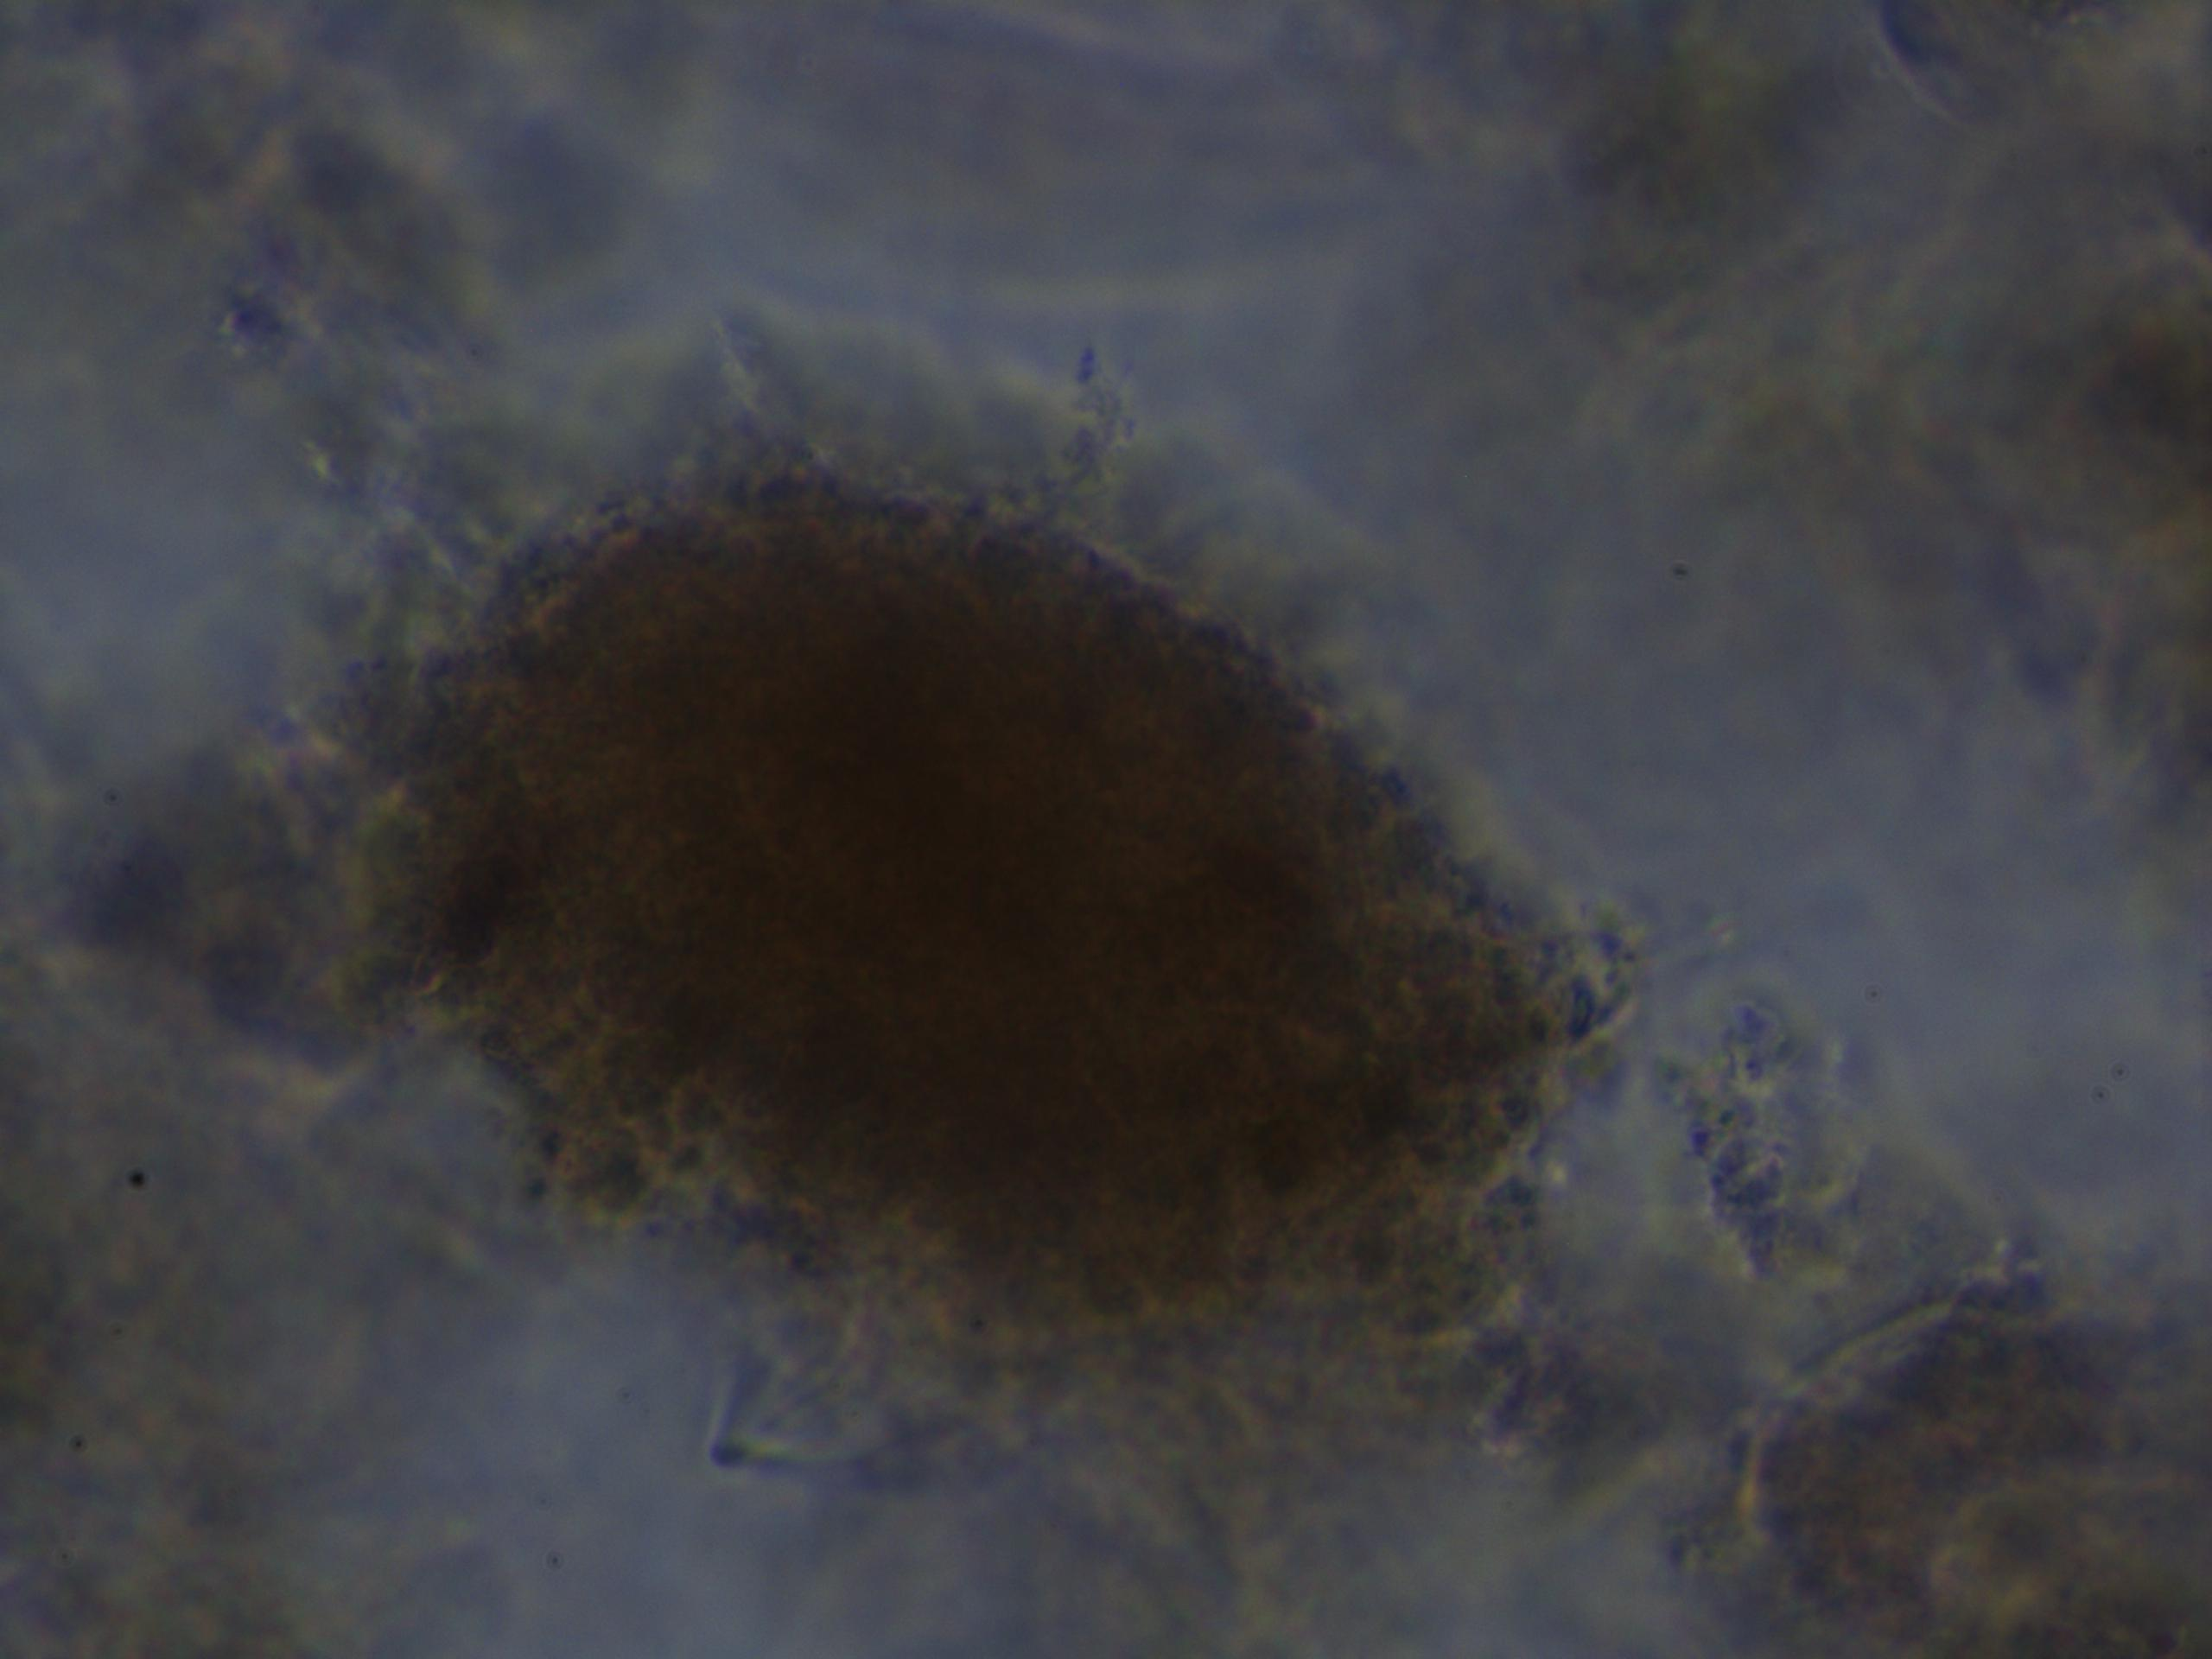spherical_floc: (383, 437, 1613, 1391)
